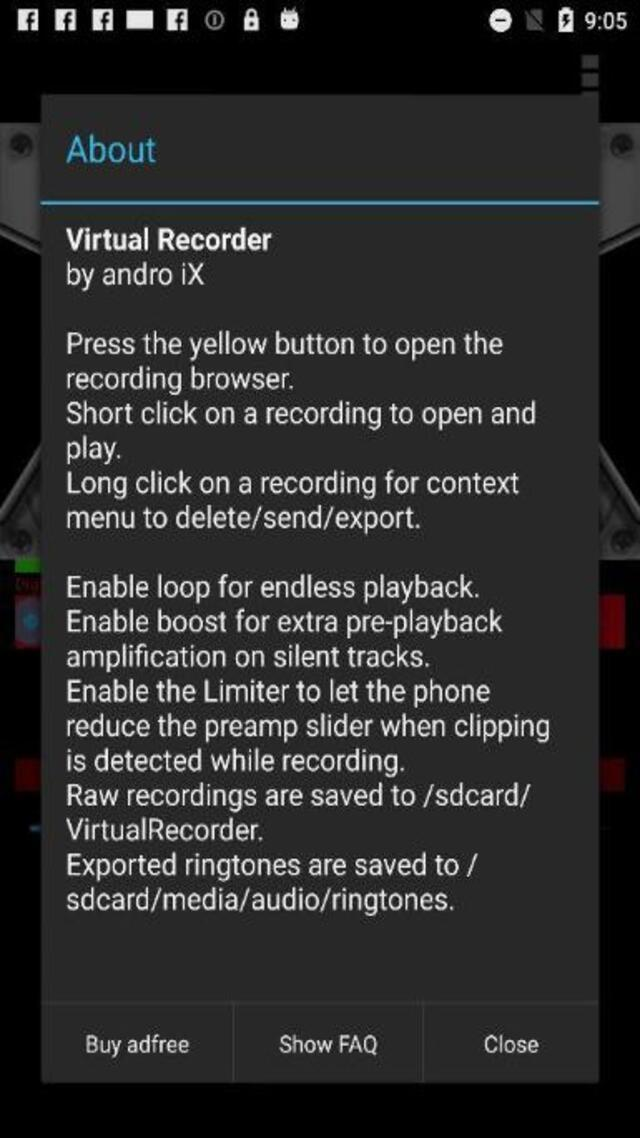Text: (64, 398, 540, 432), (65, 713, 552, 745), (65, 329, 504, 364), (63, 674, 494, 709), (64, 468, 525, 500), (64, 607, 507, 639), (64, 885, 460, 920), (64, 849, 484, 882), (65, 783, 534, 812), (64, 573, 483, 605), (64, 504, 427, 536), (65, 748, 408, 780), (63, 643, 436, 672), (64, 366, 296, 396), (64, 226, 276, 254), (66, 816, 266, 844), (63, 260, 209, 294), (66, 132, 158, 168), (276, 1029, 386, 1059), (79, 1032, 193, 1059), (63, 434, 127, 467), (480, 1029, 541, 1059)
TextButton: (42, 1001, 234, 1079), (234, 1001, 422, 1079), (423, 1001, 598, 1079)
